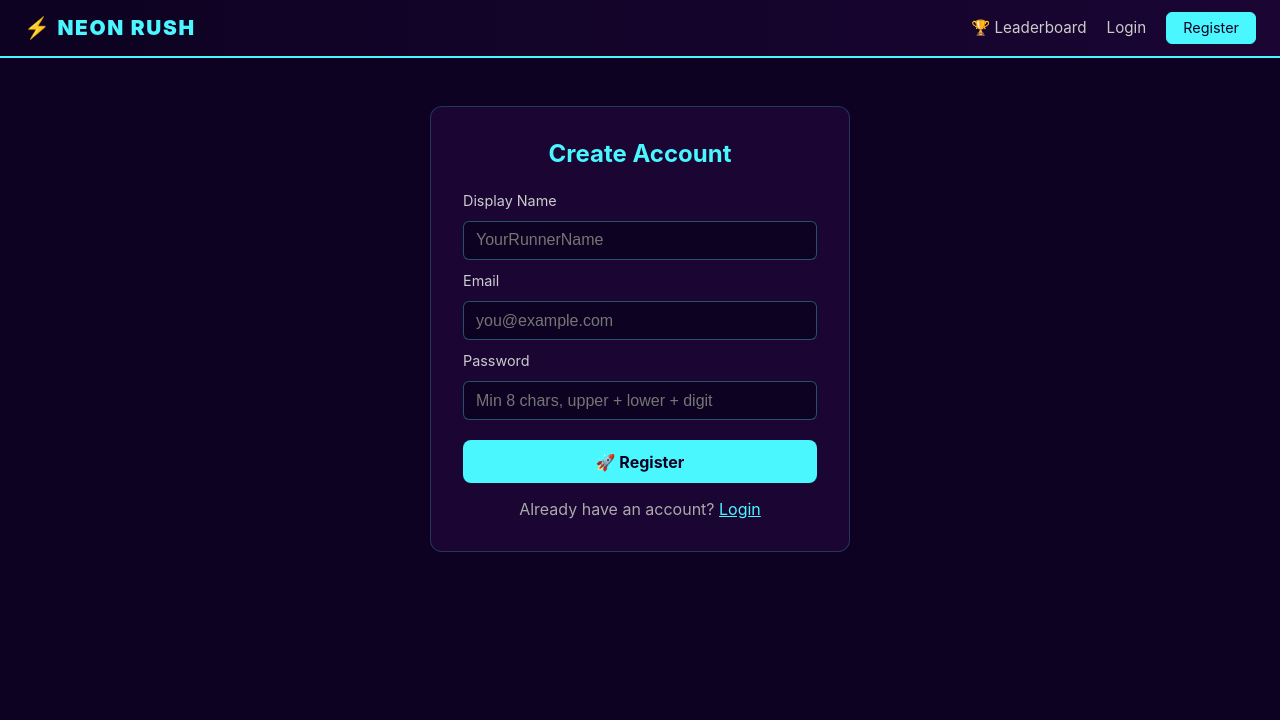
Test: App routes › navigates to profile after successful registration
In the field labelled "Display Name": [640, 240] box [463, 221, 817, 260], type "NewRunner"
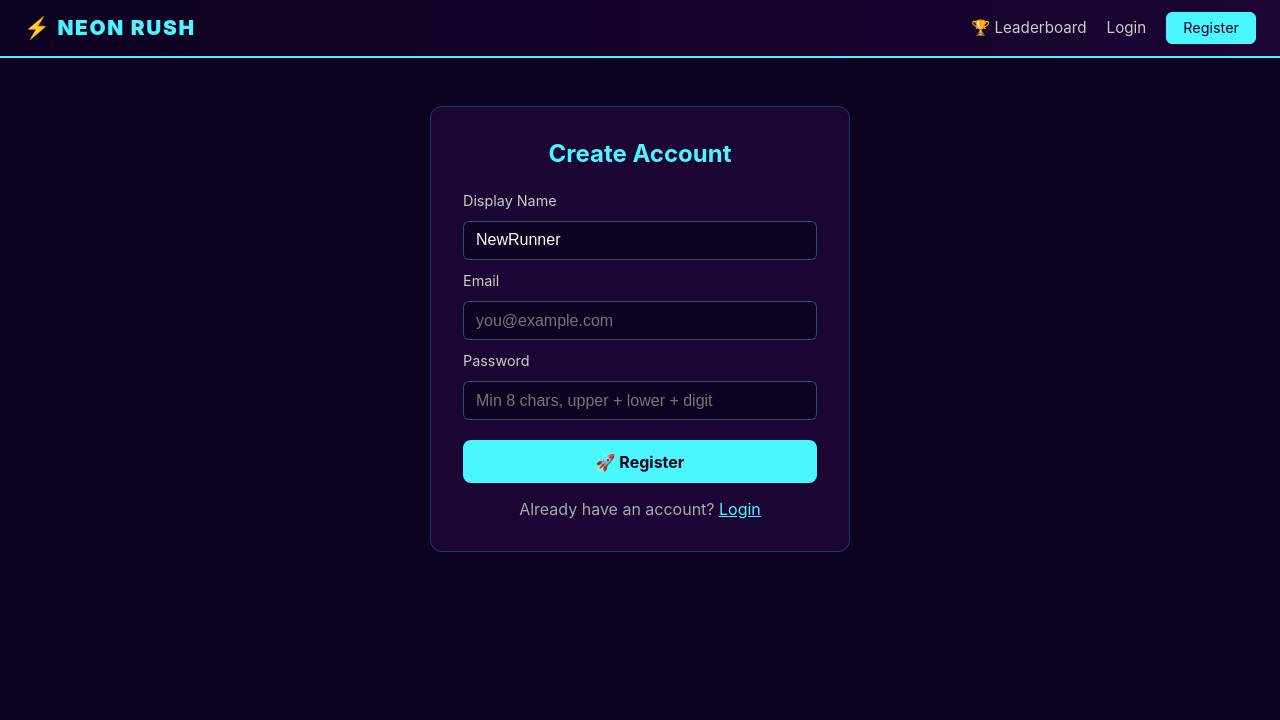
In the field labelled "Email": [640, 321] box [463, 301, 817, 340], type "new@example.com"
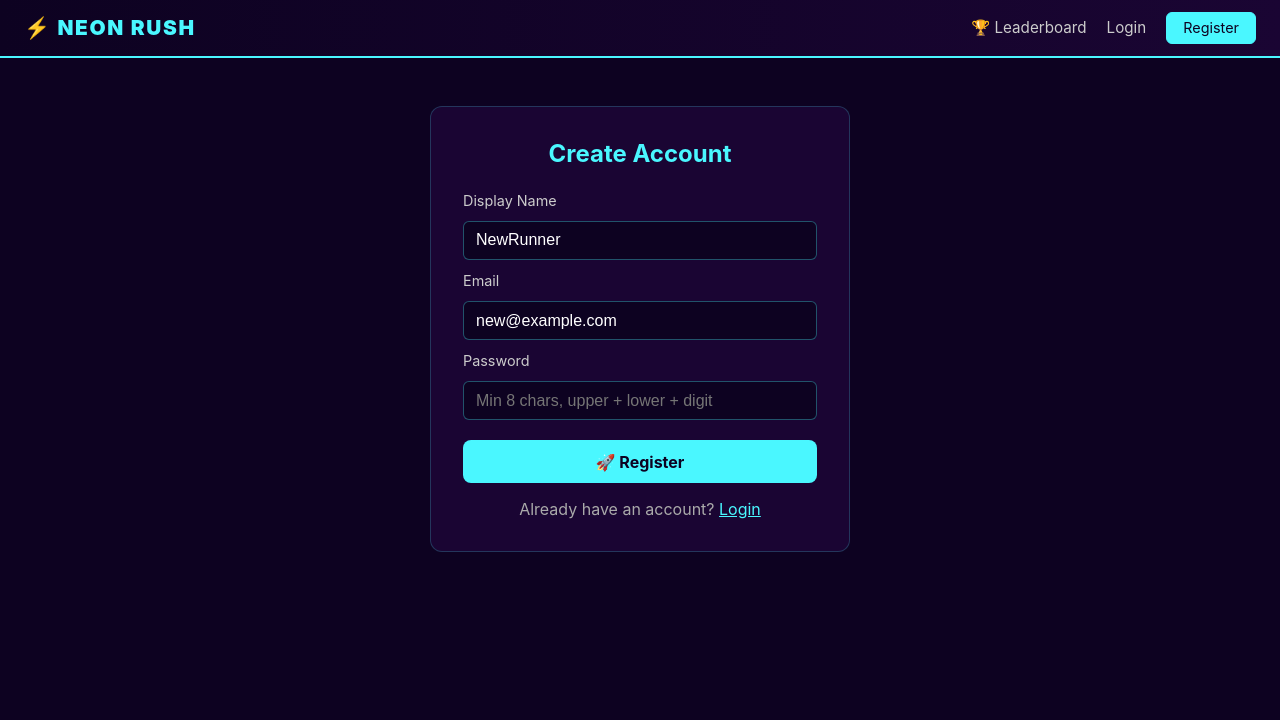
In the password field labelled "Password": [640, 401] box [463, 381, 817, 420], type "Password123"
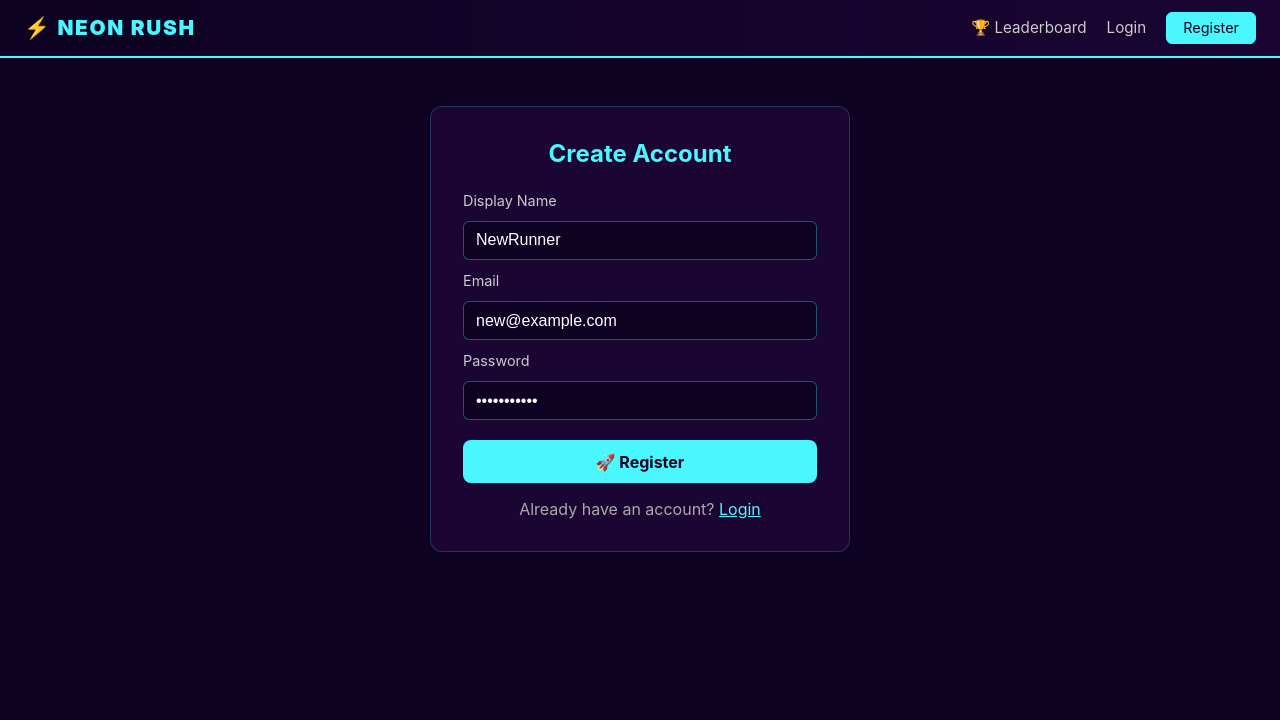
Submit the form named "Registration form", box [463, 192, 817, 483]
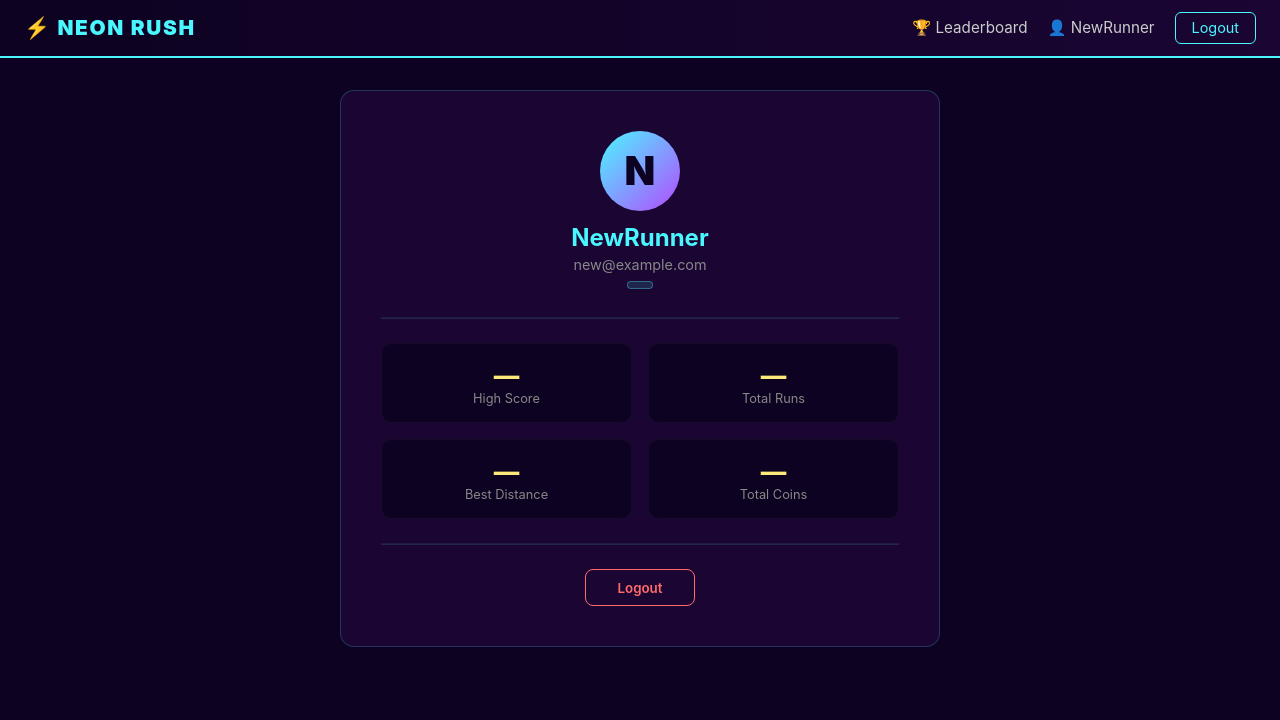
expect the heading "NewRunner" is shown: met, box [571, 223, 709, 252]
